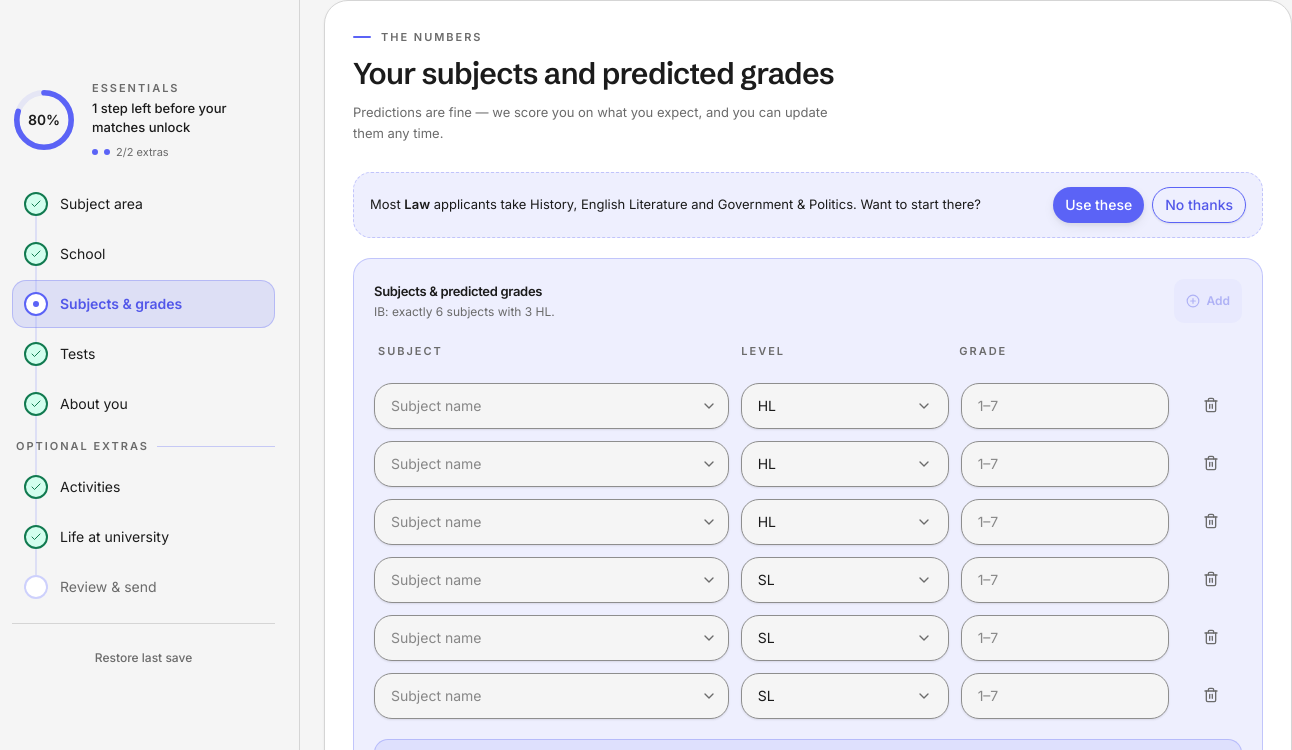
Scenario: the subject suggestion › can be declined, and does not come back
Step 1. Click the button "No thanks" → (1199, 205), box top-left (1152, 187), bottom-right (1246, 223)
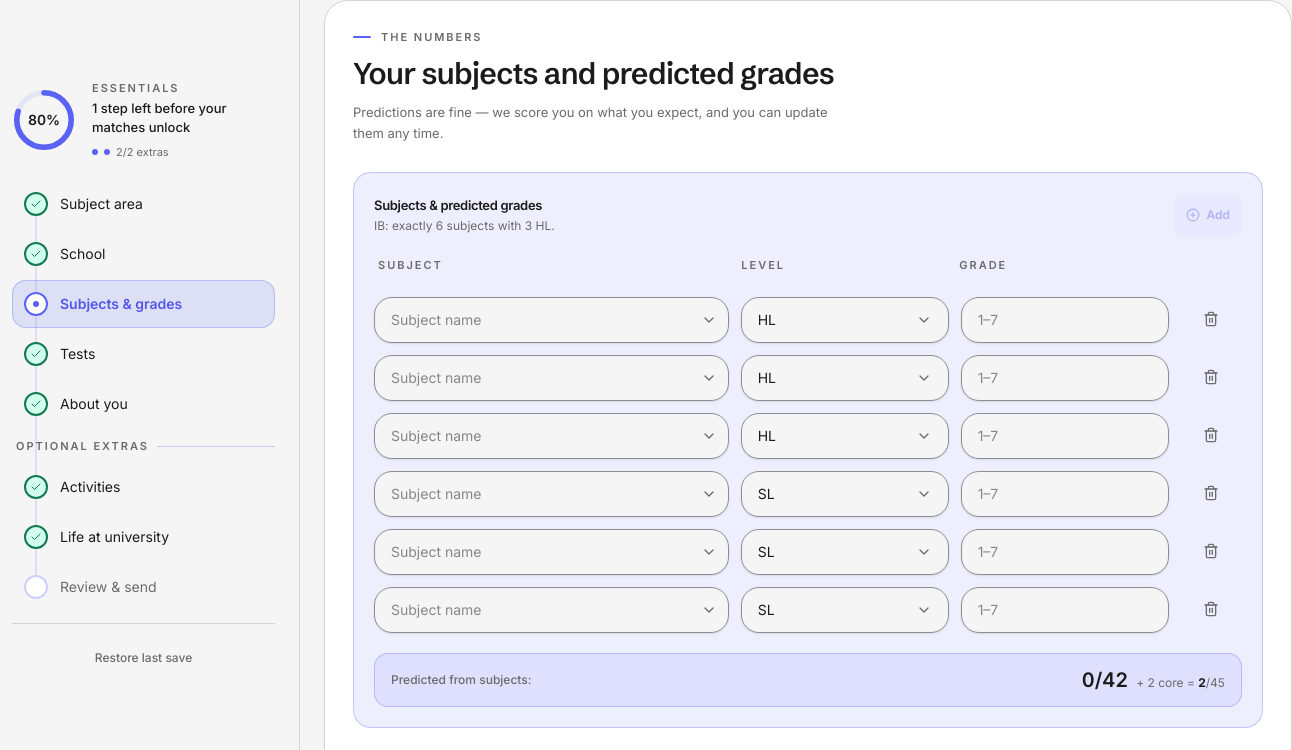
Expected: the button "Use these" is gone
